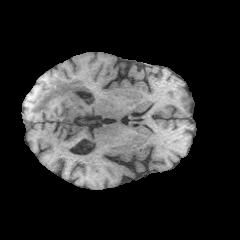glioma: (27, 79, 91, 114)
